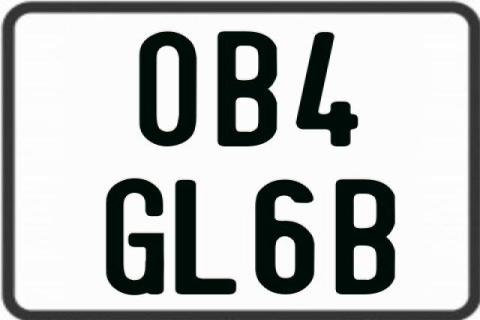0: (296, 32, 360, 150), (255, 178, 320, 294), (138, 29, 196, 150)
B: (336, 178, 399, 298), (216, 30, 281, 146)
G: (106, 178, 170, 296)
L: (176, 179, 238, 299)
